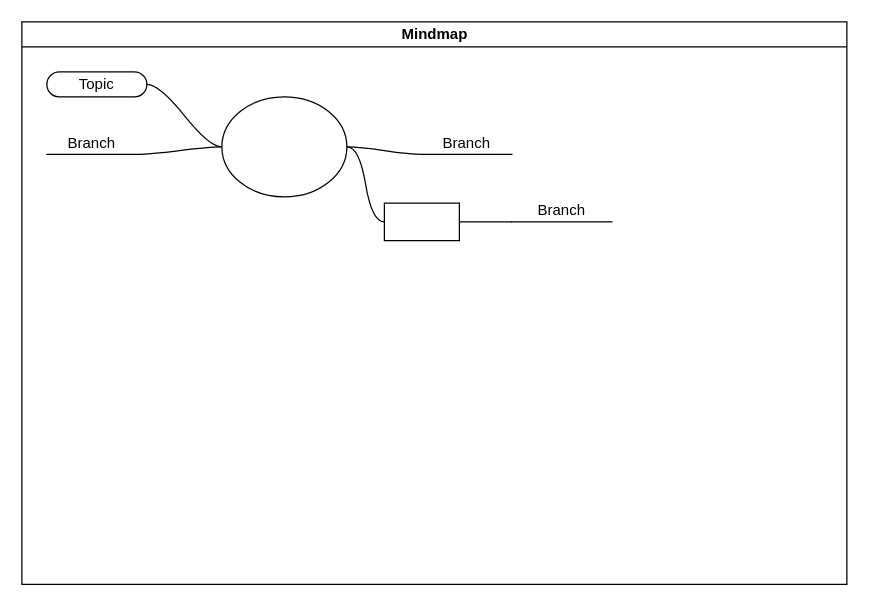
Image size: 869x606. Some labels were removed from this diagram. The shapes that lost their labels are listed below. From the top down, each one's box as (x1, y1, x2, y2) in pixels, then its label:
(221, 96, 347, 197): 人工知能の未来を託せますか?
(383, 202, 459, 241): 基本
